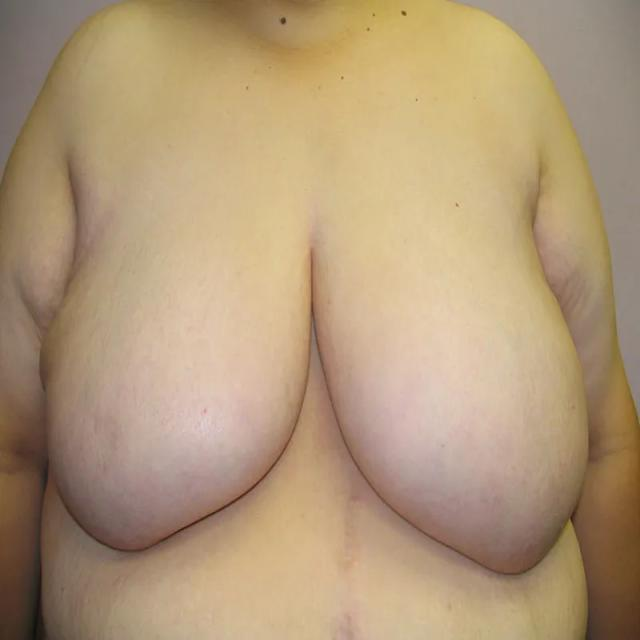Seno ileso: (314, 180, 595, 598), (34, 180, 312, 574)
